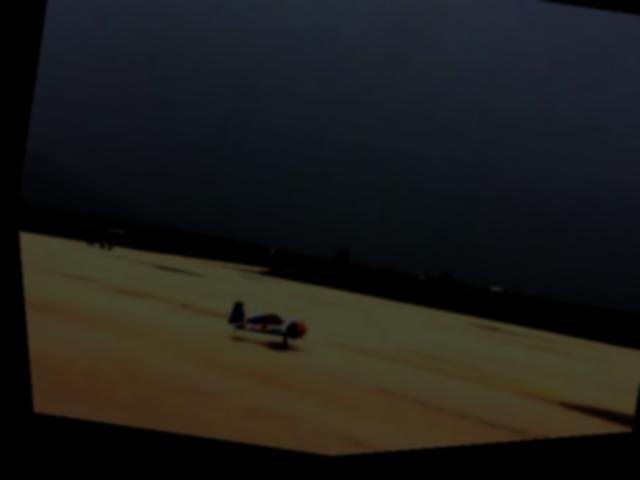uav: (210, 285, 310, 370), (59, 209, 131, 263)
